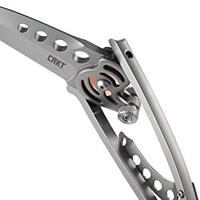knife: (1, 4, 176, 197)
